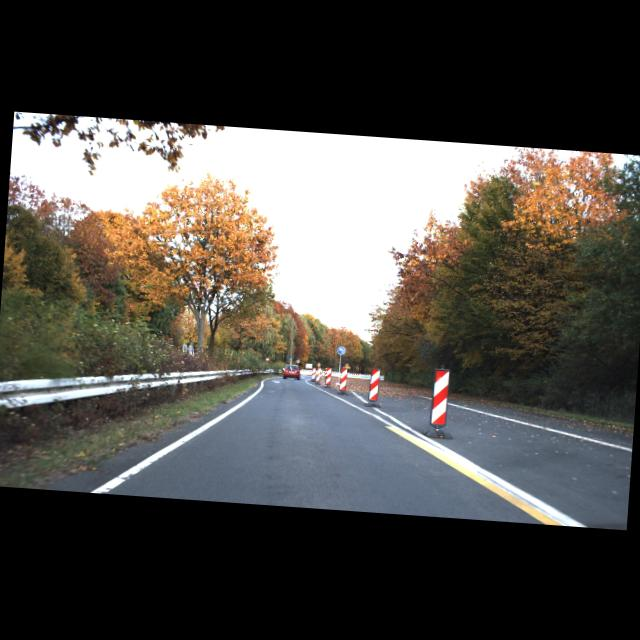mandatory: (336, 345, 346, 354)
